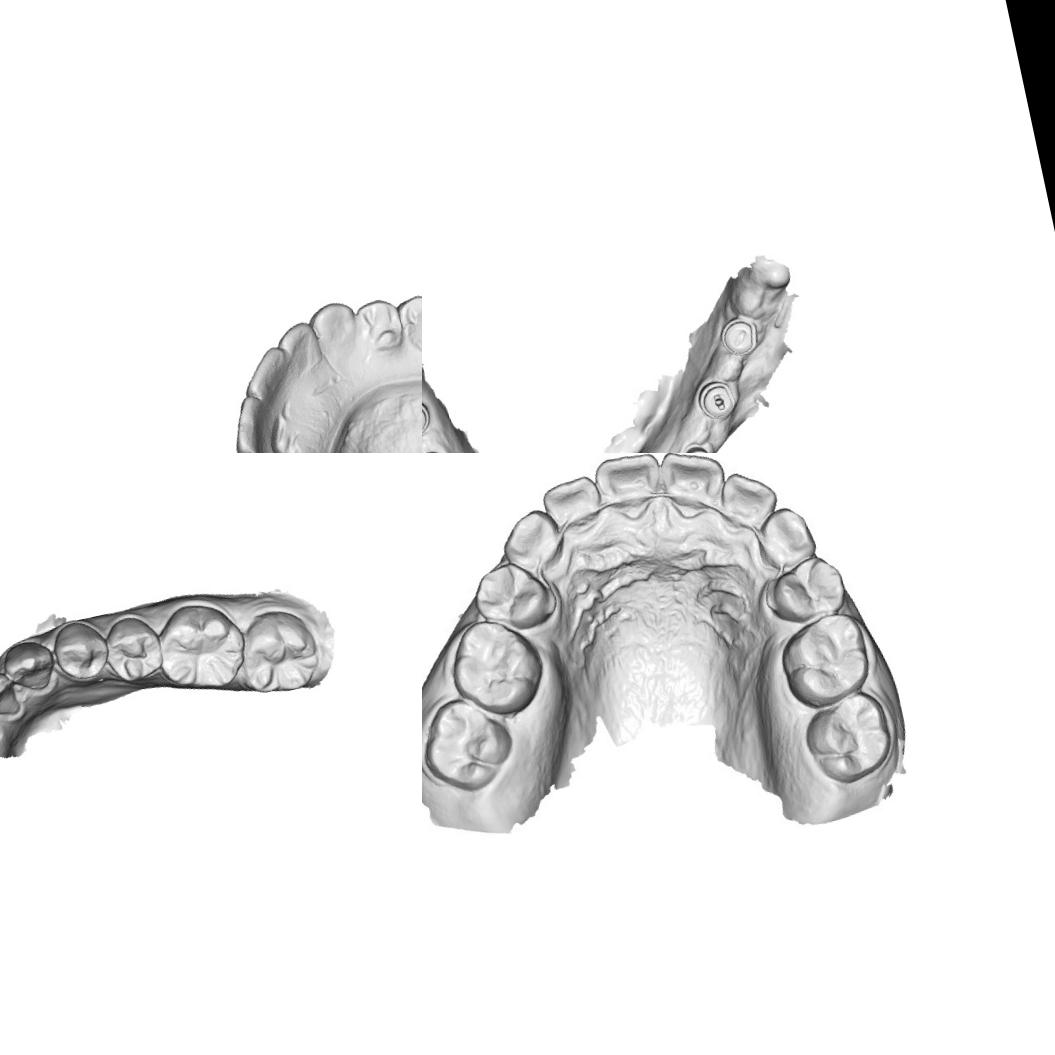canine: (750, 499, 822, 572), (500, 505, 568, 574), (305, 295, 369, 365), (0, 634, 61, 697)
implant_minus: (716, 312, 764, 361), (691, 375, 740, 423), (422, 395, 435, 444), (677, 442, 716, 453)
incisor: (653, 453, 728, 511), (223, 388, 288, 453), (596, 453, 666, 512), (540, 475, 603, 540), (719, 466, 778, 530), (238, 342, 296, 400), (272, 318, 322, 374), (0, 668, 23, 723)
molar: (148, 594, 253, 698), (447, 613, 545, 717), (776, 609, 876, 710), (226, 601, 325, 701), (806, 691, 898, 789), (422, 693, 512, 790)
premolar: (470, 554, 556, 638), (766, 554, 848, 626), (98, 610, 168, 686), (47, 613, 114, 687), (352, 290, 410, 358), (395, 291, 422, 346)
